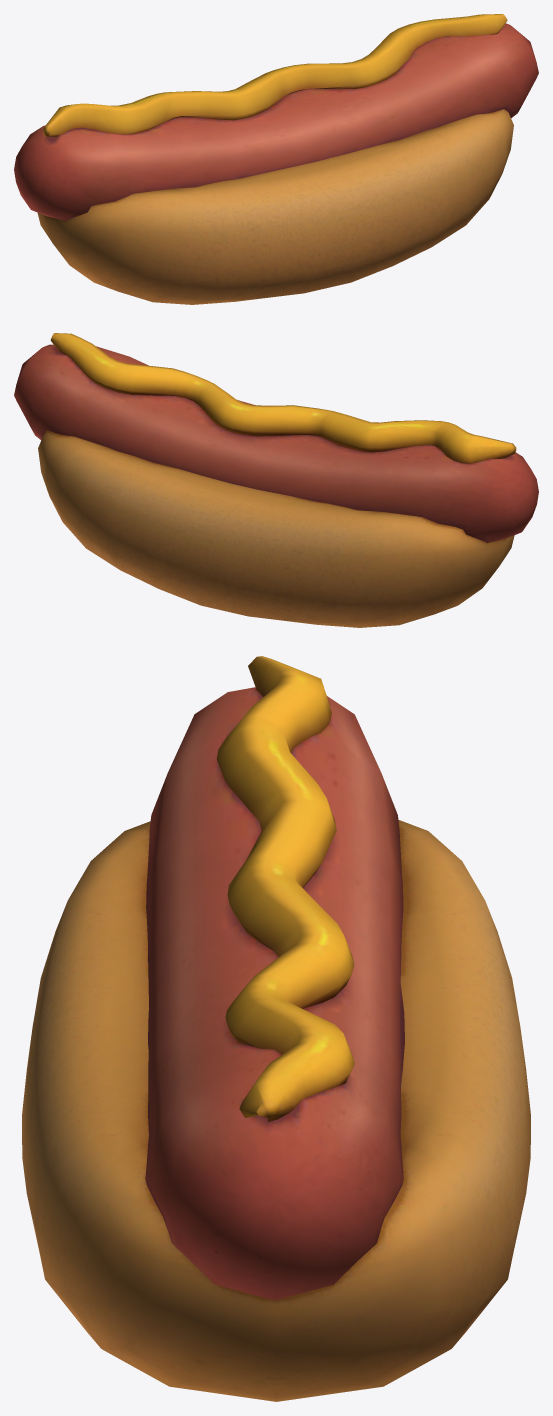
Rendered from 0-hotdog.fbx.
3 views of the same model, one above another, from view 1: azimuth 30°, elevation 25°; view 2: azimuth 150°, elevation 25°; view 3: azimuth 270°, elevation 25° (orthographic). The views are drawn at different scales.
Parts seen in each view (by area): view 1: 0-hotdog; view 2: 0-hotdog; view 3: 0-hotdog.
Part boxes in pixels (left/top/right/bottom): 0-hotdog: left=14, top=14, right=538, bottom=304; 0-hotdog: left=14, top=333, right=538, bottom=627; 0-hotdog: left=22, top=656, right=530, bottom=1401.
Bounding box in the file's own units: 94.8 × 37.97 × 41.1.
